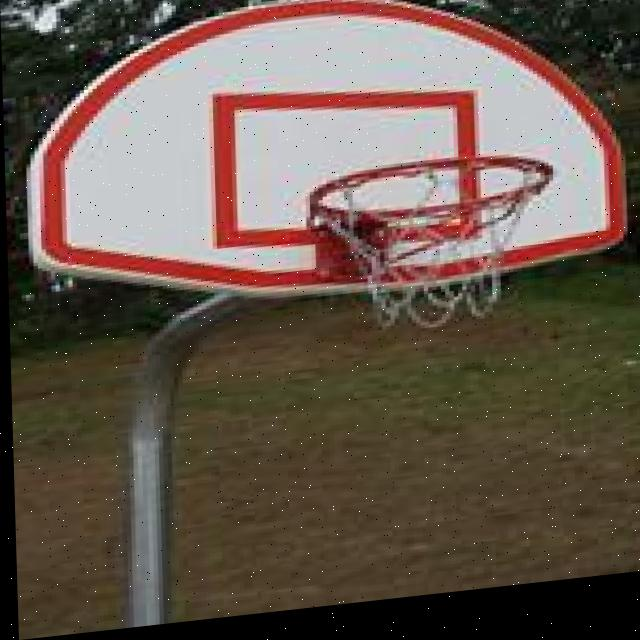hoop: (294, 131, 576, 359)
